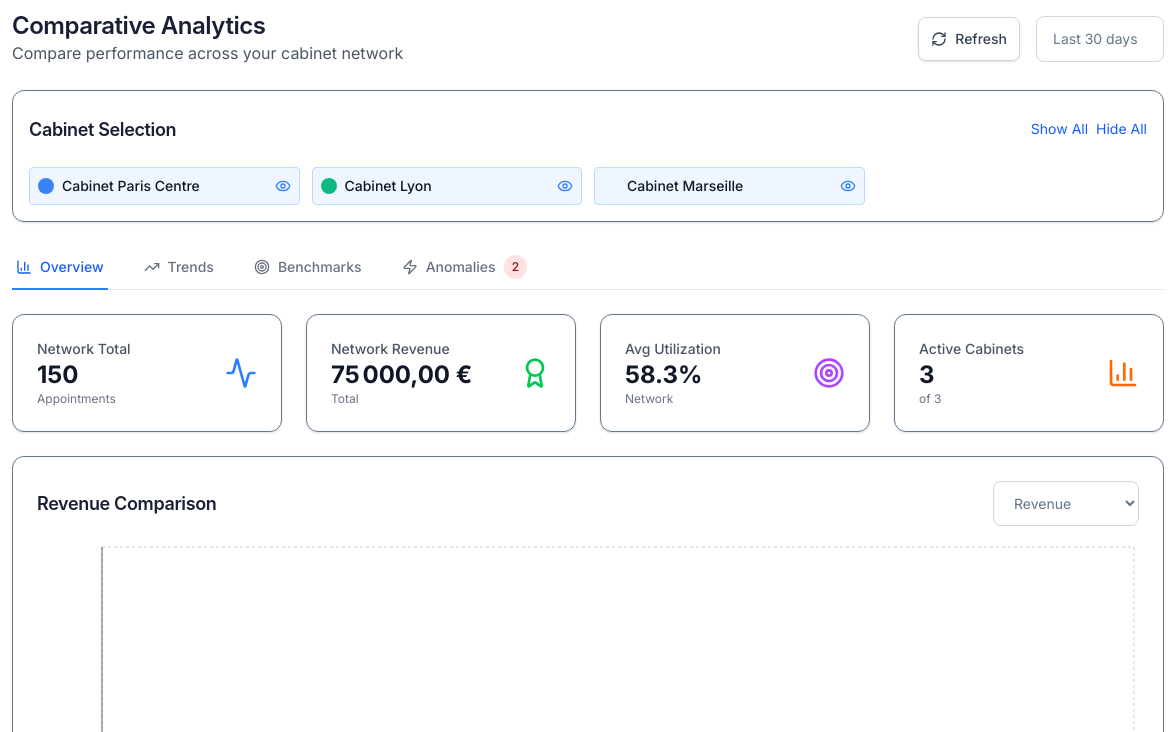
Test: ComparativeAnalyticsDashboard › detects and displays anomalies
// Switch to anomalies view
What coordinates should you click on to do the following:
click the text "Anomalies"
I would click on:
 (461, 267)
Its box is left=426, top=257, right=496, bottom=277.
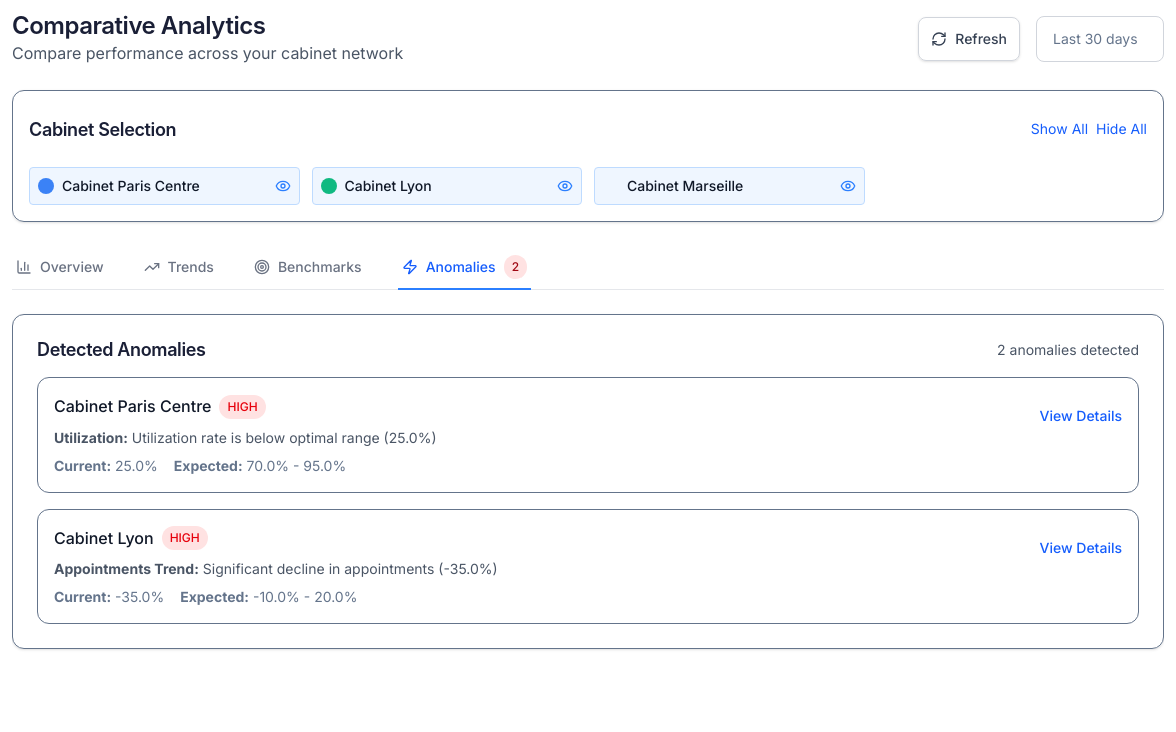
Expected: the heading "Detected Anomalies" is shown, left=37, top=339, right=206, bottom=361
Expected: the text "Utilization: Utilization rate is below optimal range (25.0%)" is shown, left=54, top=429, right=437, bottom=446
Expected: the text "Significant decline in appointments" is shown, left=203, top=560, right=498, bottom=577
